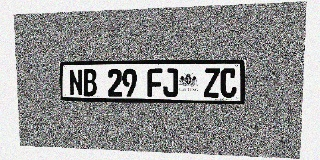2: (108, 69, 122, 96)
9: (122, 69, 137, 97)
B: (83, 69, 97, 96)
C: (220, 68, 237, 98)
F: (147, 68, 162, 97)
J: (163, 68, 178, 97)
N: (69, 69, 83, 96)
Z: (204, 68, 220, 98)
